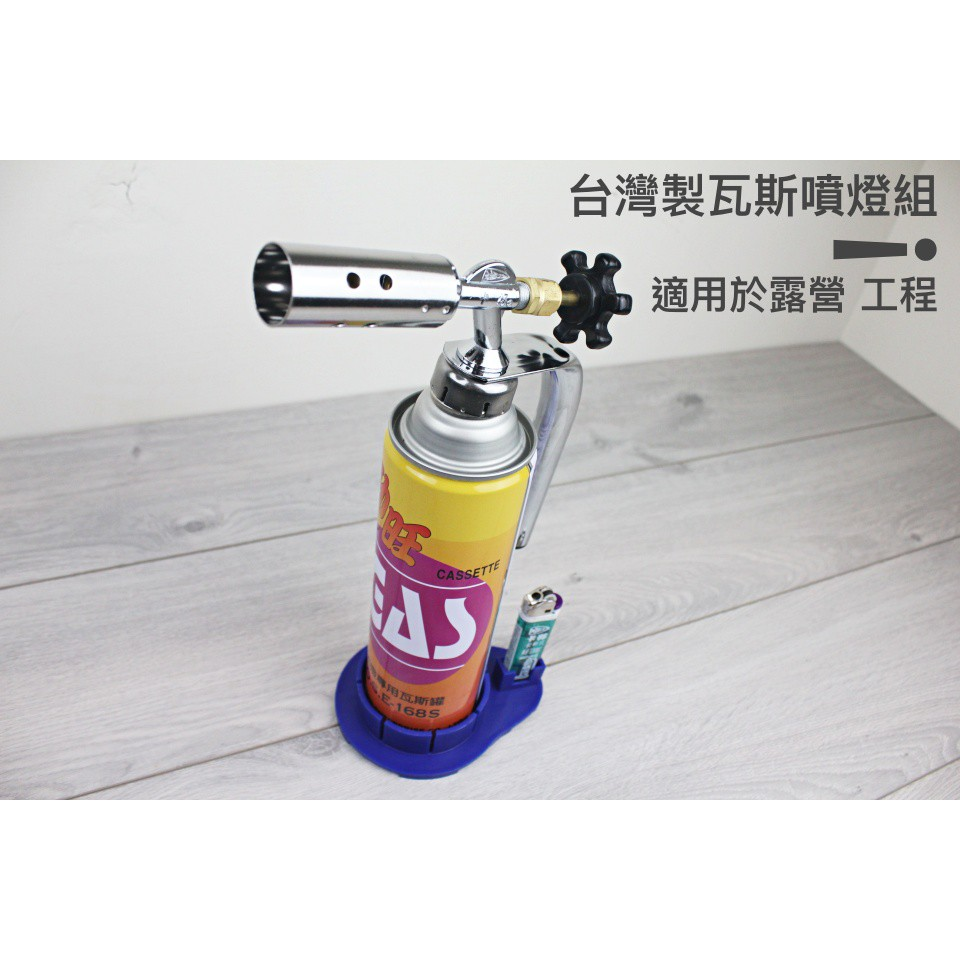gastorch: (250, 237, 622, 782)
